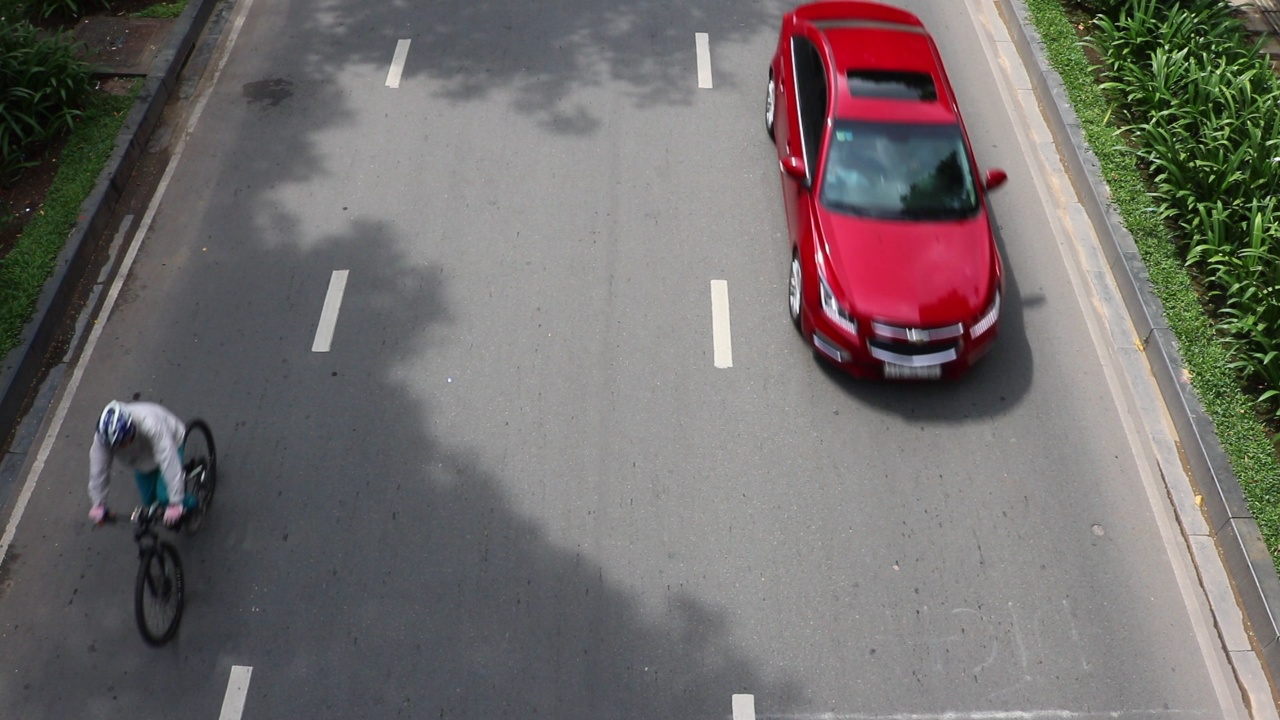bicycle: (123, 464, 222, 646)
car: (763, 0, 1009, 384)
